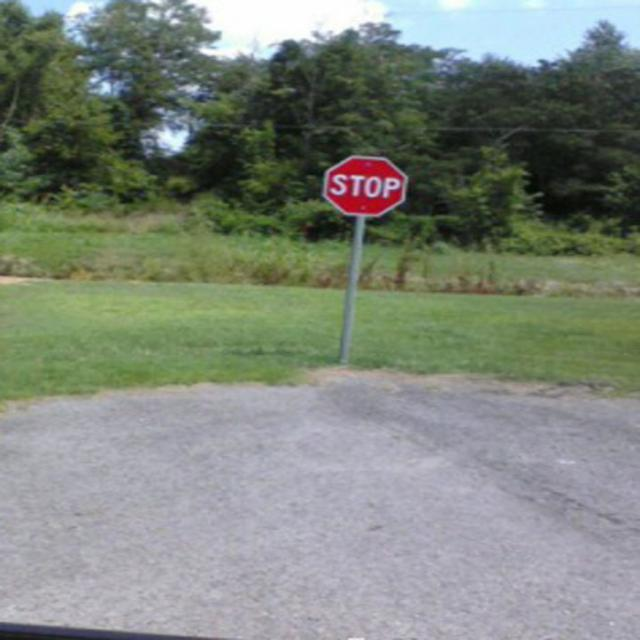Stop-sign: (319, 152, 408, 218)
